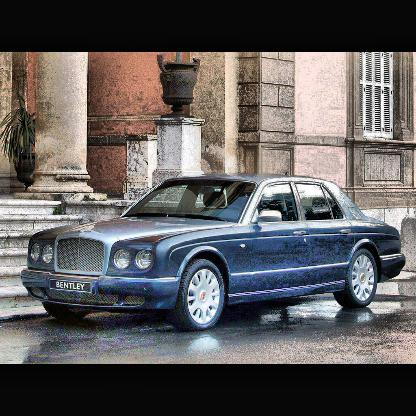Bentley Arnage Sedan 2009: (21, 172, 408, 335)
